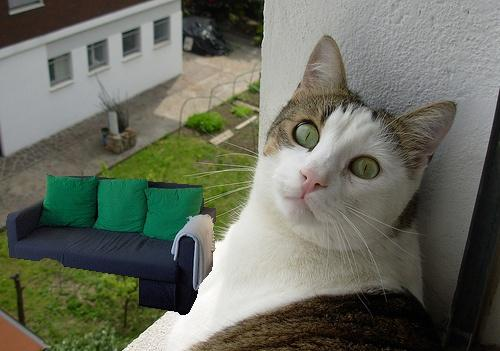tampered: (7, 175, 216, 315)
